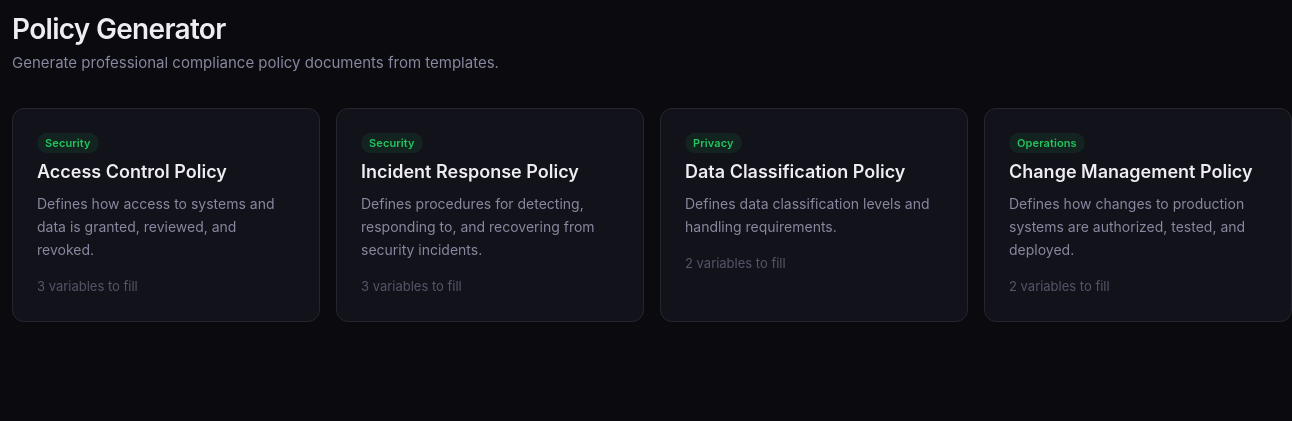
Test case: PoliciesPage › opens the variable form when a template card is clicked
Click the heading "Access Control Policy".
click(132, 172)  # box [37,161,227,182]
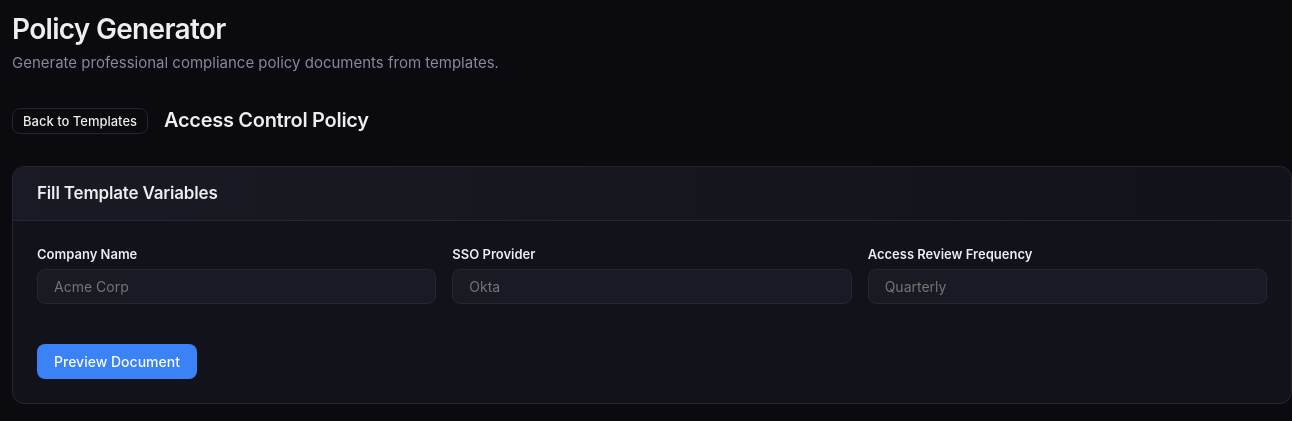
Expected: the heading "Fill Template Variables" is shown, [37,183,218,204]
Expected: the button "Back to Templates" is shown, [12,108,148,134]
